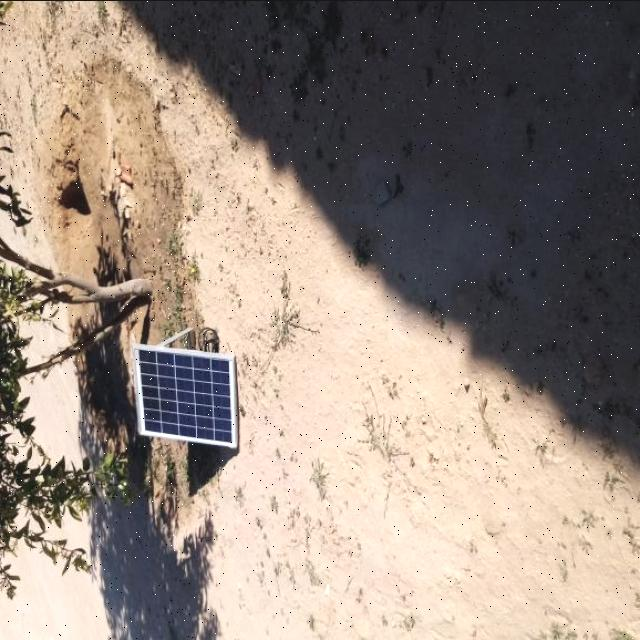Normal Solar Panel: (134, 344, 237, 446)
